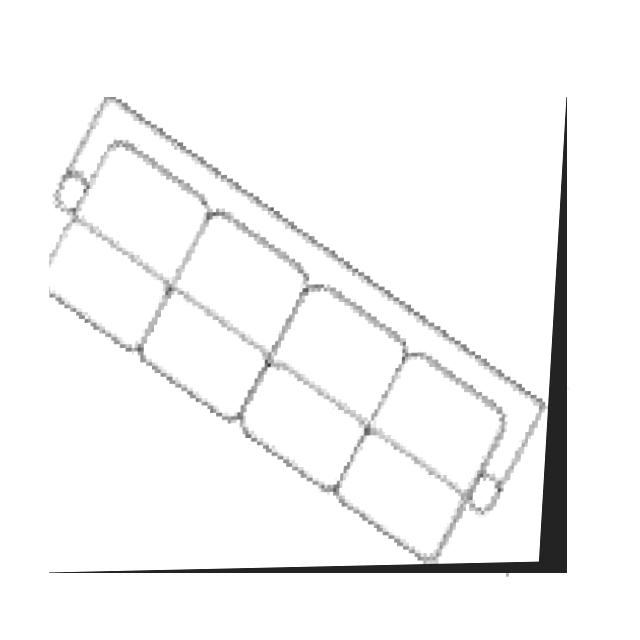sofa: (49, 97, 567, 573)
